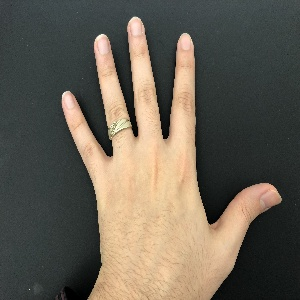hand: (61, 15, 282, 282)
